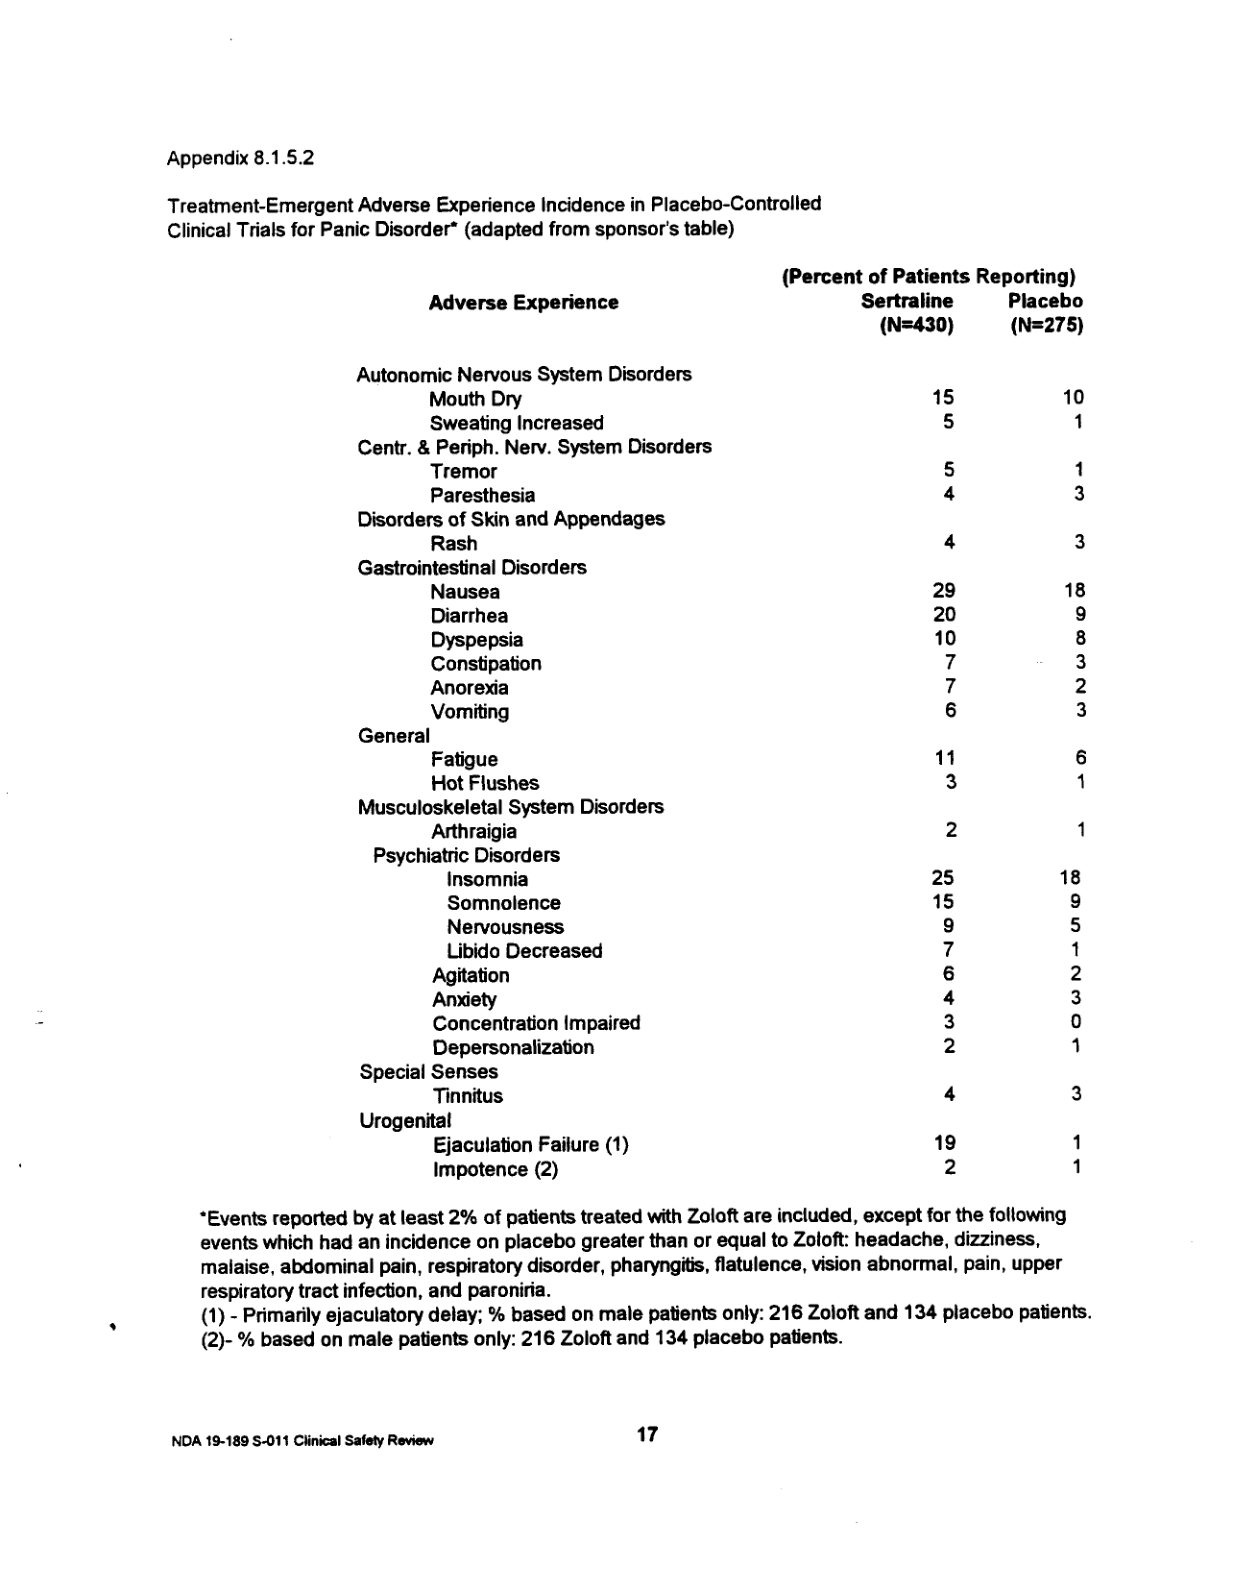nolines: (351, 261, 1103, 1186)
